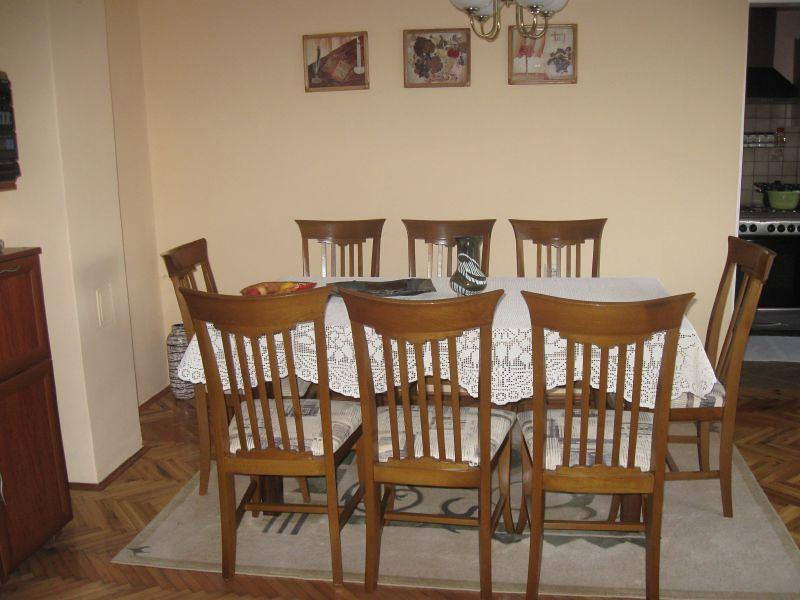table: (177, 276, 726, 595)
